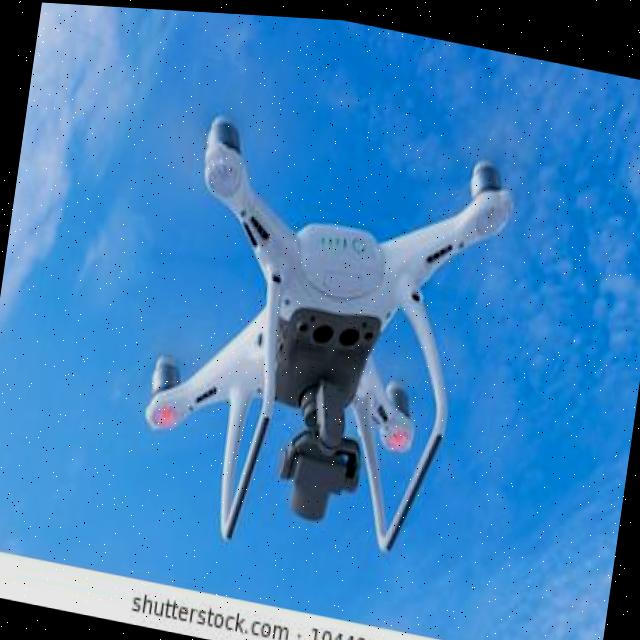drone: (64, 70, 563, 592)
